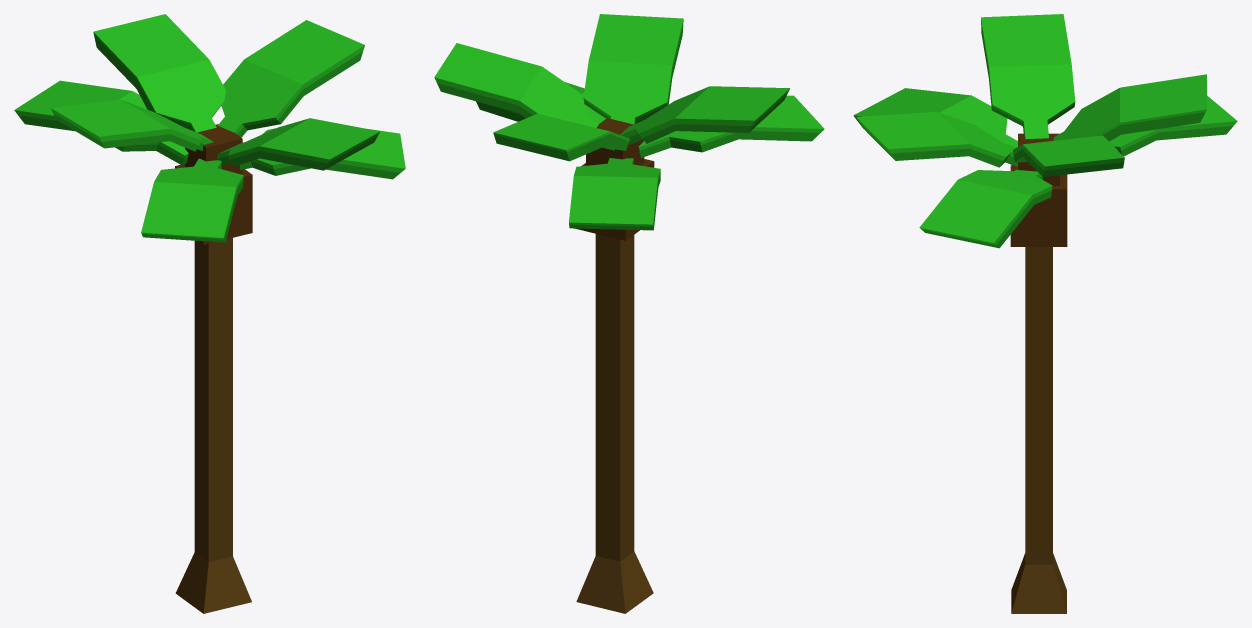
The model's file is palmtree2.fbx.
3 renders of one model, left to right at view 1: azimuth 30°, elevation 25°; view 2: azimuth 150°, elevation 25°; view 3: azimuth 270°, elevation 25°, orthographic.
Parts seen in each view (by area): view 1: palmtree2; view 2: palmtree2; view 3: palmtree2.
Boxes of the visible parts, x1,y1,x2,y2 form: palmtree2: (14,14,405,613); palmtree2: (434,14,824,613); palmtree2: (853,14,1237,613).
Bounding box in the file's own units: 640 × 1007 × 681.
1 material, 1 textured.
